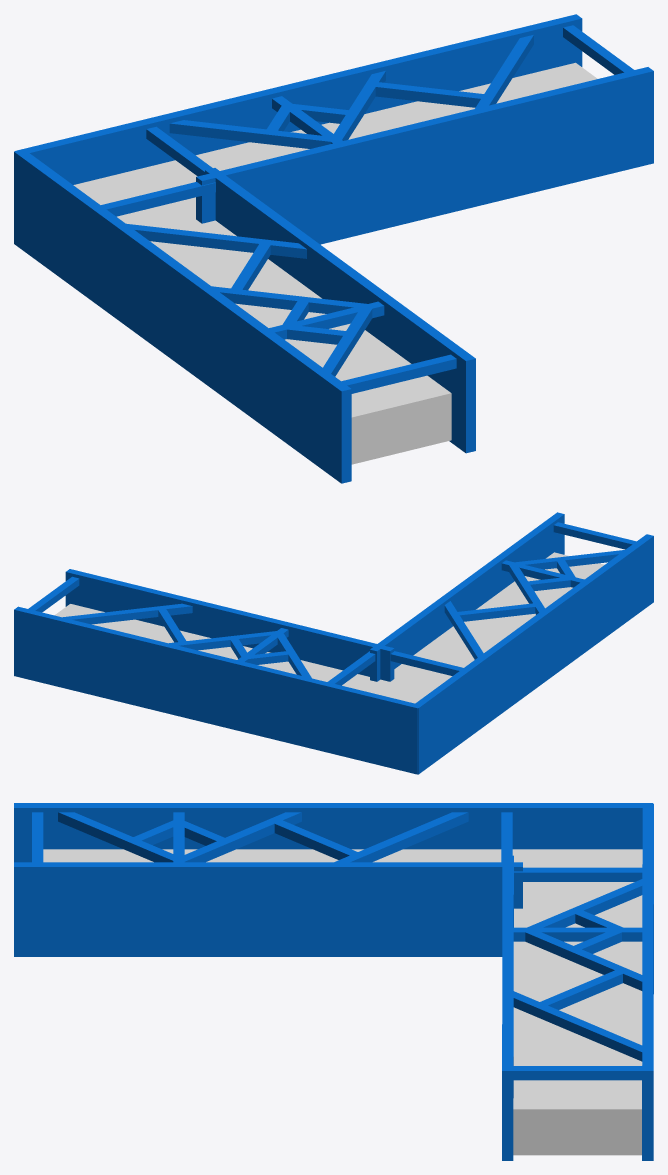
The model's file is mazecurve.fbx.
3 views of the same model, one above another, from view 1: azimuth 30°, elevation 25°; view 2: azimuth 150°, elevation 25°; view 3: azimuth 270°, elevation 25° (orthographic). The views are drawn at different scales.
Parts seen in each view (by area): view 1: polySurface36; view 2: polySurface36; view 3: polySurface36.
Boxes of the visible parts, box(x1,y1,x2,y2) form: polySurface36: box(14, 14, 653, 483); polySurface36: box(14, 512, 653, 774); polySurface36: box(14, 803, 653, 1160).
Size of the model in its own units: 484 by 75.83 by 488.
